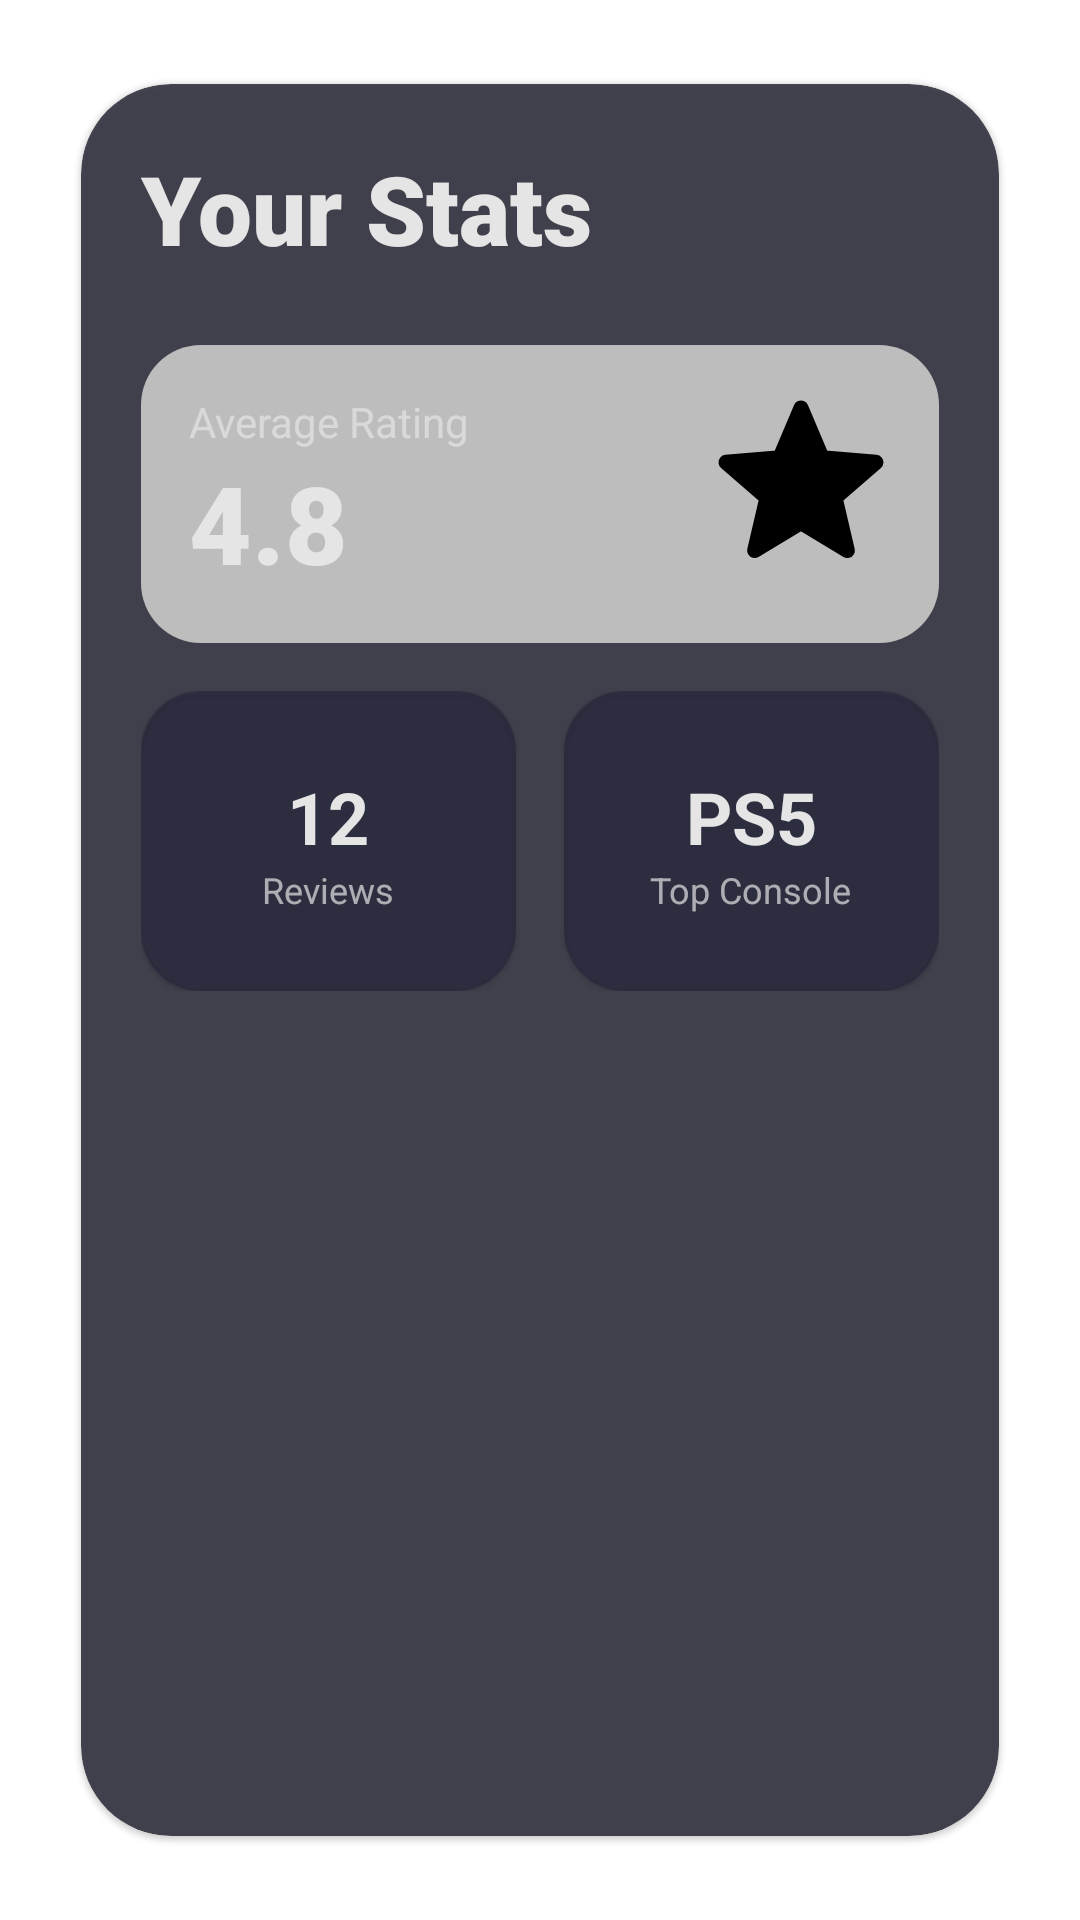

Icon bounding boxes for this 1080*1920 phone screenshot, format (x1=x1, y1=y1, x2=x2, y2=y2):
star: (x1=718, y1=400, x2=884, y2=558)
